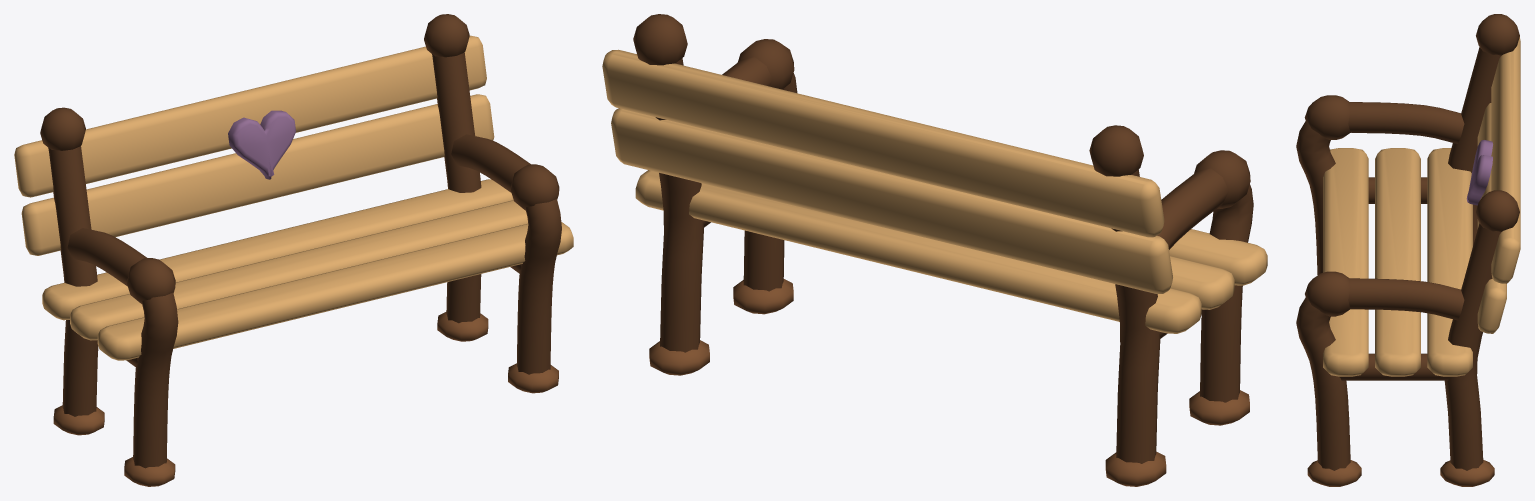
File: ShopBench.fbx
3 renders of one model, left to right at view 1: azimuth 30°, elevation 25°; view 2: azimuth 150°, elevation 25°; view 3: azimuth 270°, elevation 25°, orthographic. The views are drawn at different scales.
Parts seen in each view (by area): view 1: ShopBench; view 2: ShopBench; view 3: ShopBench.
Part boxes in pixels (x1=…): ShopBench: x1=14, y1=14, x2=573, y2=486; ShopBench: x1=602, y1=14, x2=1267, y2=486; ShopBench: x1=1296, y1=14, x2=1520, y2=486.
Size of the model in its own units: 1.6 by 1.02 by 0.7105.
